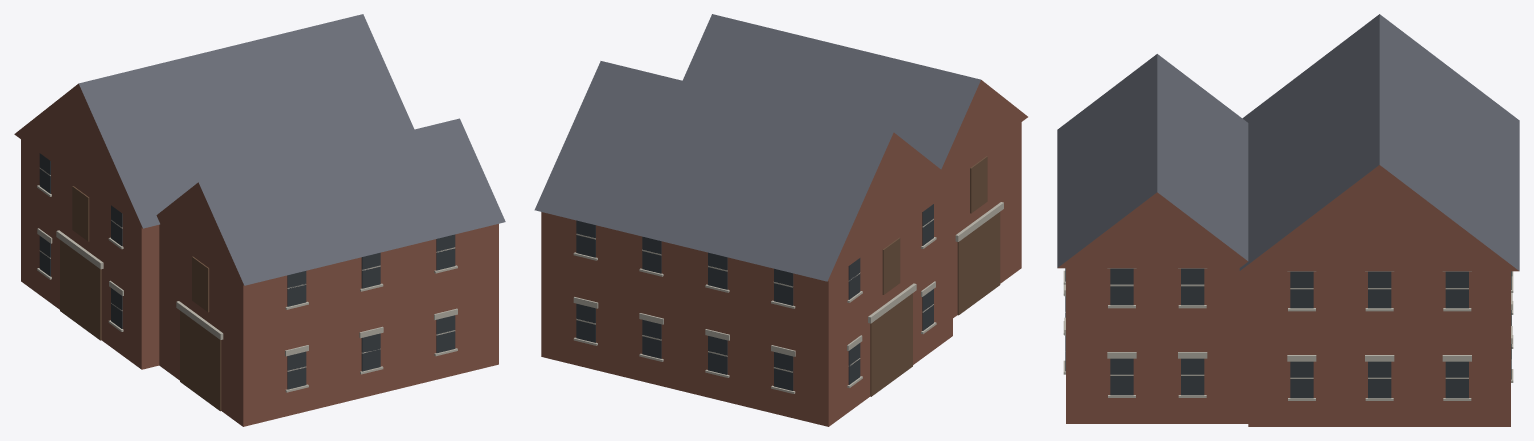
Rendered from house_2140_calumet_coach_house__draft_1904.glb.
The picture shows the model from 3 angles, left to right: view 1: azimuth 30°, elevation 25°; view 2: azimuth 150°, elevation 25°; view 3: azimuth 270°, elevation 25°; orthographic projection. The views are drawn at different scales.
Parts seen in each view (by area): view 1: house_2140_calumet_coach_house__draft_1904; view 2: house_2140_calumet_coach_house__draft_1904; view 3: house_2140_calumet_coach_house__draft_1904.
Part boxes in pixels (x1=…): house_2140_calumet_coach_house__draft_1904: x1=14, y1=14, x2=505, y2=426; house_2140_calumet_coach_house__draft_1904: x1=534, y1=14, x2=1027, y2=426; house_2140_calumet_coach_house__draft_1904: x1=1057, y1=14, x2=1519, y2=426.
Size of the model in its own units: 12.24 by 9.98 by 15.85.
